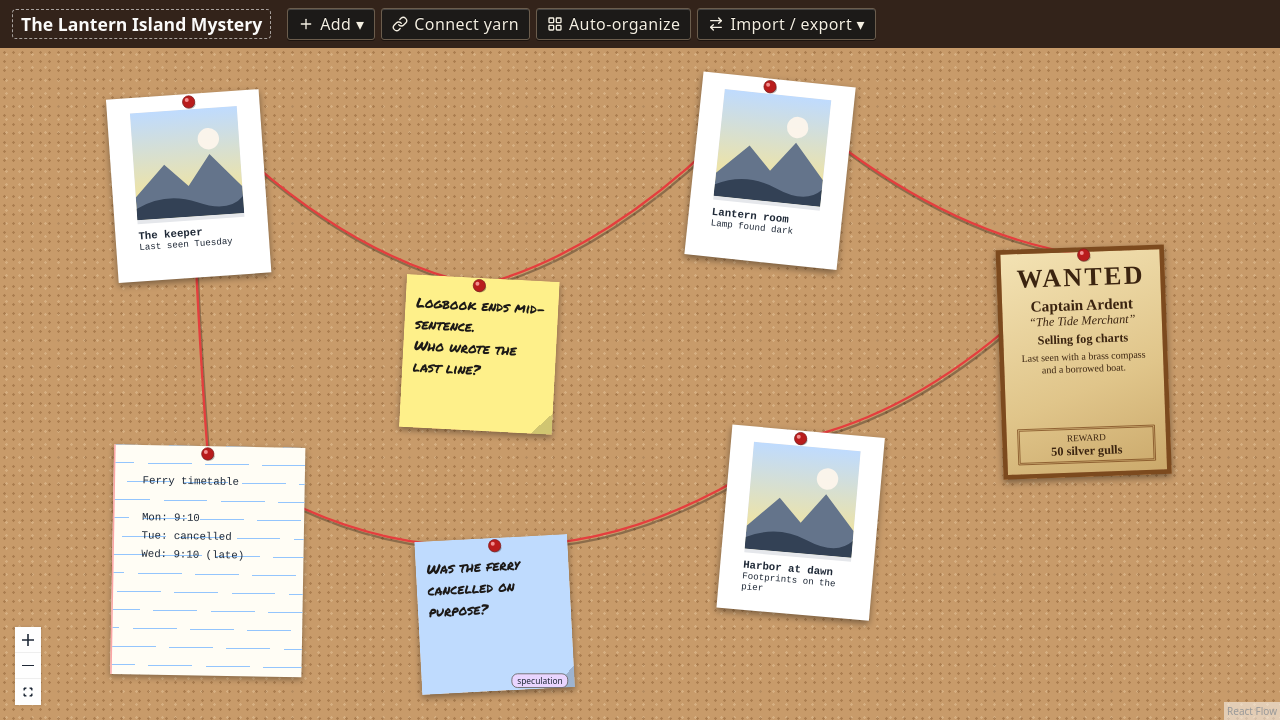
Test: widget dialog: opening › opens on a click, with a heading name, aria-modal, Detail view and Inspector
This screenshot has width=1280, height=720.
Click the element showing "Harbor at dawn Footprints on the pier" at (801, 523), box [724,431,877,614]
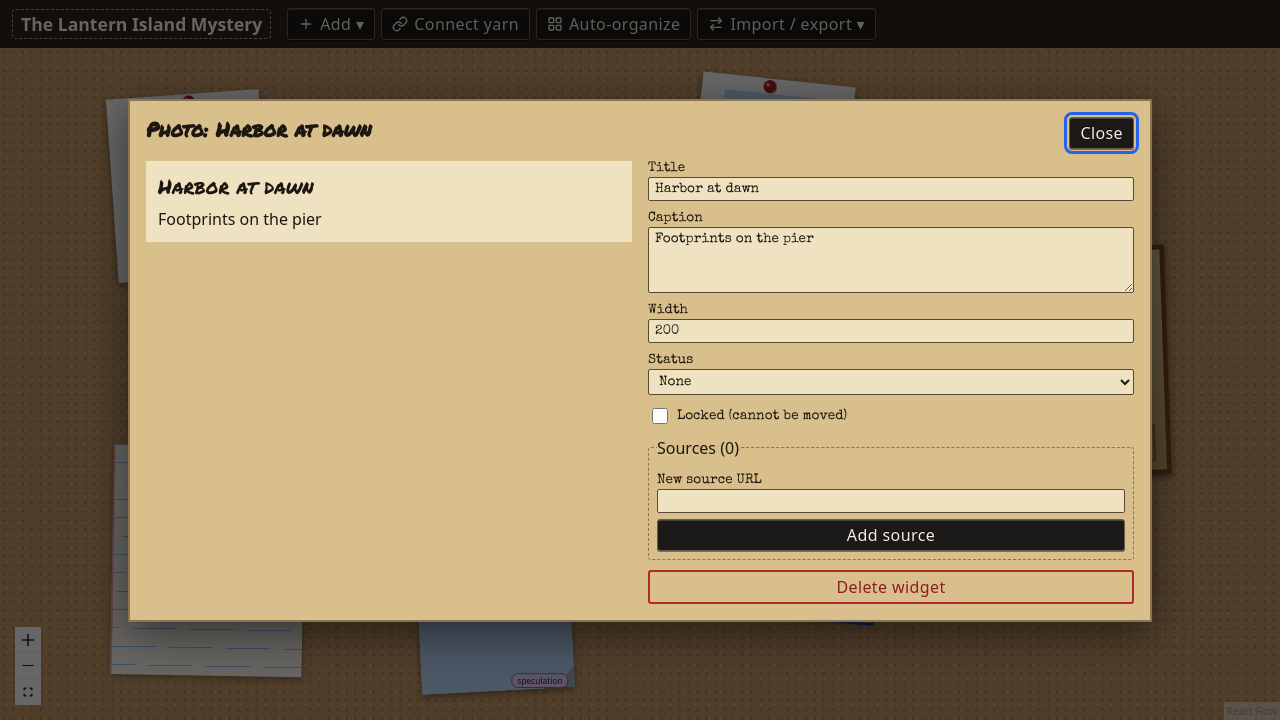
Result: the element showing "Harbor at dawn Footprints on the pier" is shown at [146,160,632,242]
Result: the field labelled "Title" is shown at [648,176,1134,200]
